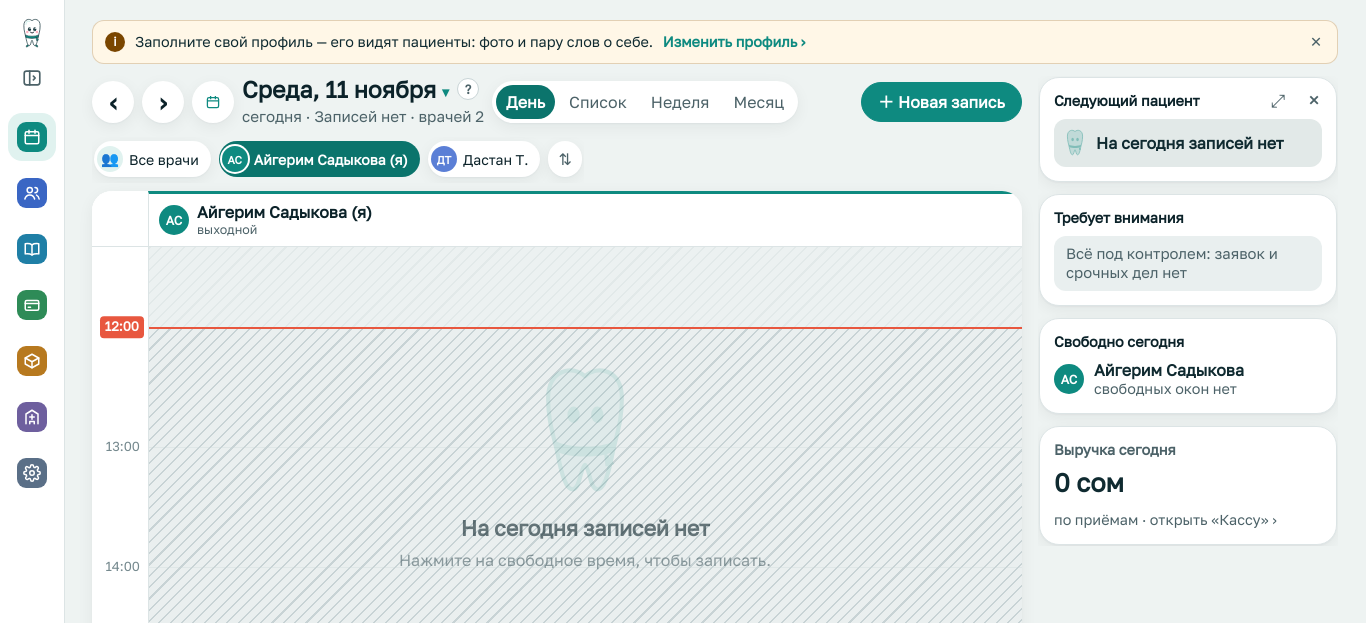
«Новая запись» → «Метки:» › врач меток не ставит: видит метки пациента без кнопок
(page scrolled)
Click the button "＋ Новая запись".
click(942, 102)  # box [861,82,1022,122]
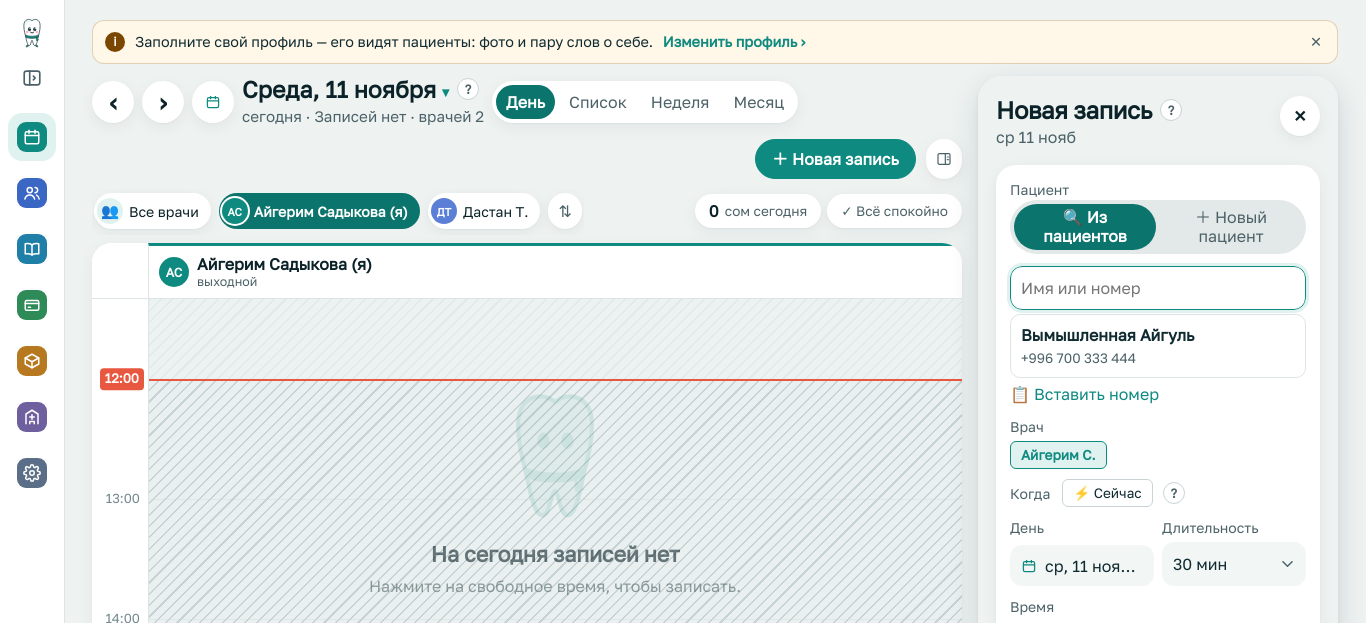
Click the button "Вымышленная Айгуль +996 700 333 444".
click(1158, 346)  # box [1011,315,1305,377]
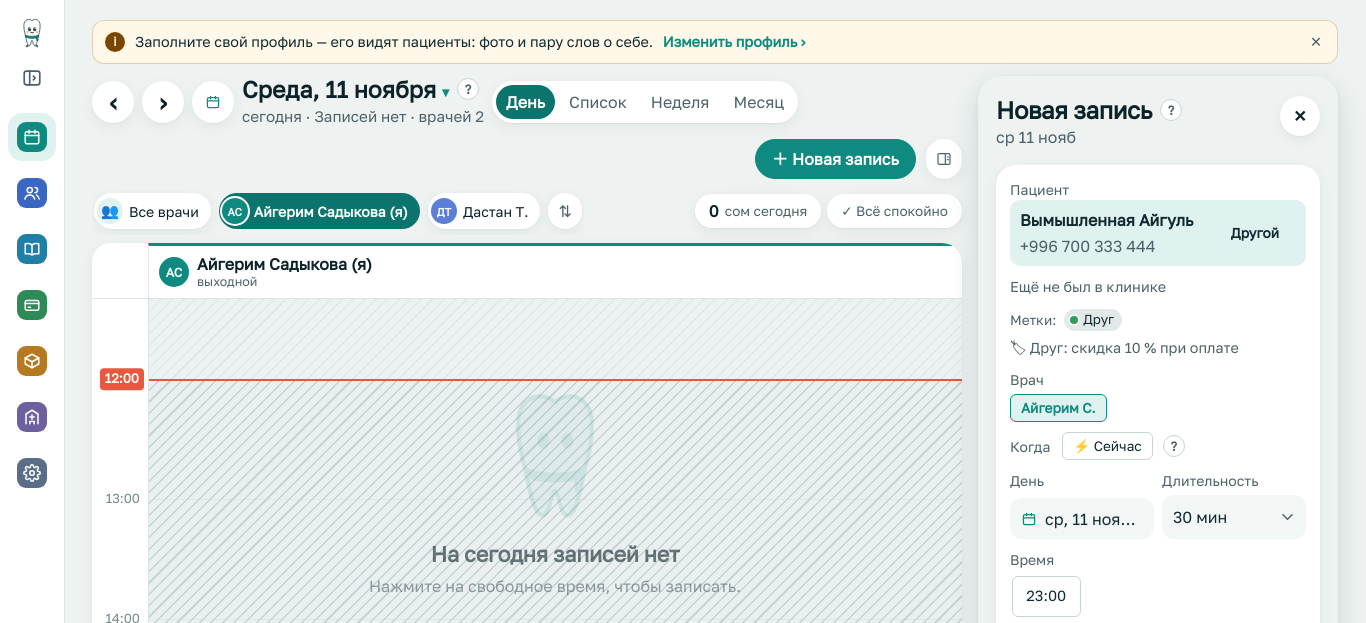
Check: the element named "Метки пациента" shows "Друг", box [1083,311,1114,327]
Check: the element named "Метки пациента" shows "Друг: скидка 10 % при оплате", box [1030,339,1239,356]
Check: the button "🔍 Из пациентов" is gone
